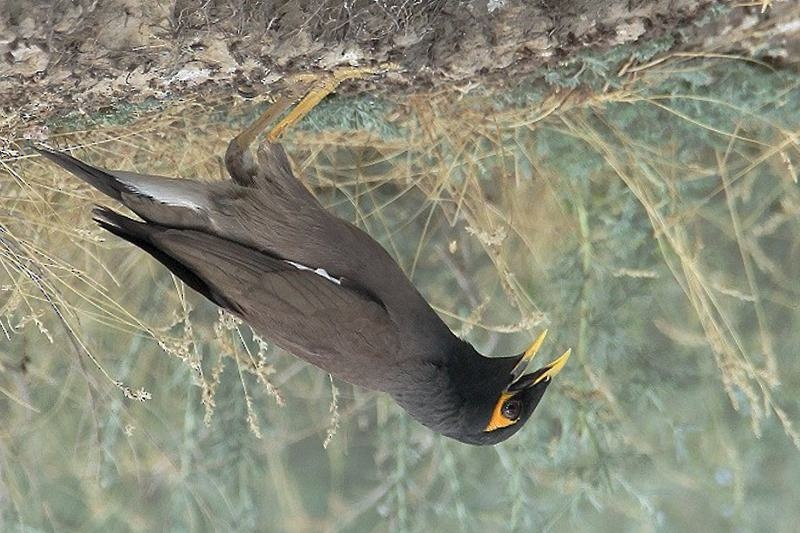myna: (118, 95, 598, 498)
